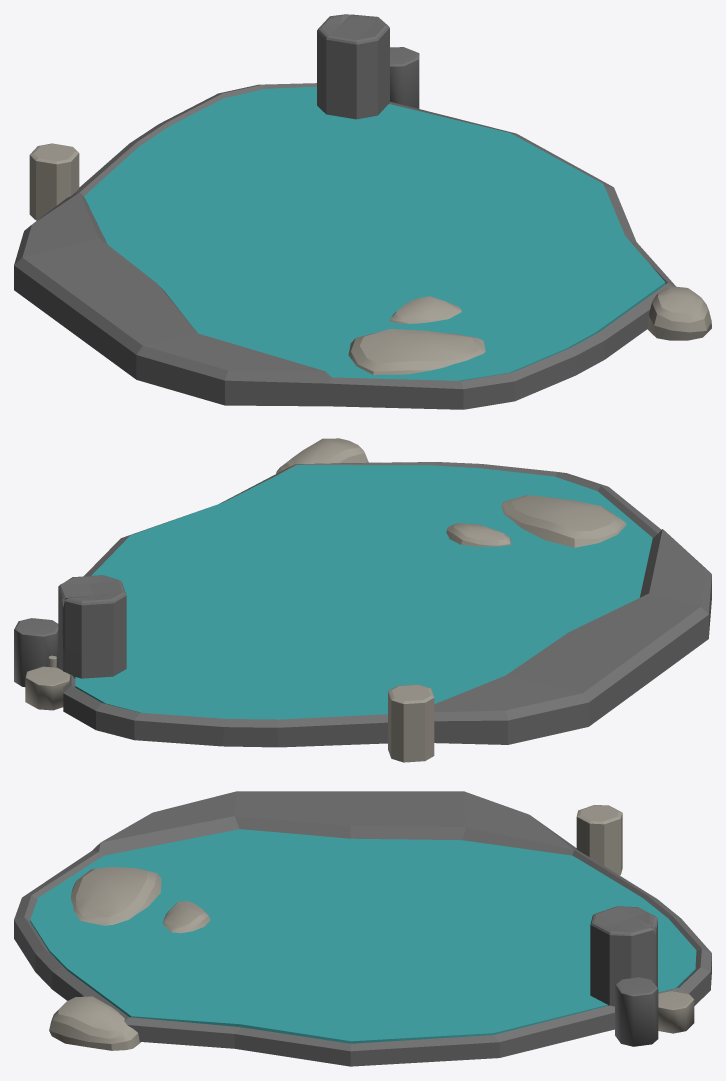
Rendered from pond_01.fbx.
The picture shows the model from 3 angles, top to bottom: view 1: azimuth 30°, elevation 25°; view 2: azimuth 150°, elevation 25°; view 3: azimuth 270°, elevation 25°; orthographic projection. The views are drawn at different scales.
Visible parts, largest first — view 1: polySurface2, polySurface1, Rocher_01, pCube16, Rocher_02, pCube18, Rocher_03, pCube17; view 2: polySurface2, polySurface1, Rocher_01, pCube16, Rocher_02, Rocher_03, Rocher_05, pCube18, pCube17; view 3: polySurface2, polySurface1, Rocher_01, pCube16, pCube18, Rocher_03, Rocher_02, Rocher_05, pCube17.
Part boxes in pixels (x1,y1,x2,y2): polySurface2: (84,86,665,380); polySurface1: (14,83,675,409); Rocher_01: (317,14,389,119); pCube16: (348,329,485,374); Rocher_02: (29,143,79,220); pCube18: (647,286,711,340); Rocher_03: (390,47,419,108); pCube17: (389,296,461,323); polySurface2: (75,465,652,719); polySurface1: (63,462,711,747); Rocher_01: (58,575,126,678); pCube16: (501,495,626,547); Rocher_02: (388,684,434,762); Rocher_03: (14,618,58,686); Rocher_05: (25,666,70,710); pCube18: (276,438,368,473); pCube17: (446,523,510,546); polySurface2: (30,829,696,1043); polySurface1: (14,791,711,1066); Rocher_01: (590,906,657,1006); pCube16: (71,867,161,925); pCube18: (49,996,140,1050); Rocher_03: (615,977,658,1046); Rocher_02: (576,805,622,875); Rocher_05: (658,990,694,1033); pCube17: (163,901,210,933).
Size of the model in its own units: 7.12 by 1.3 by 8.45.
